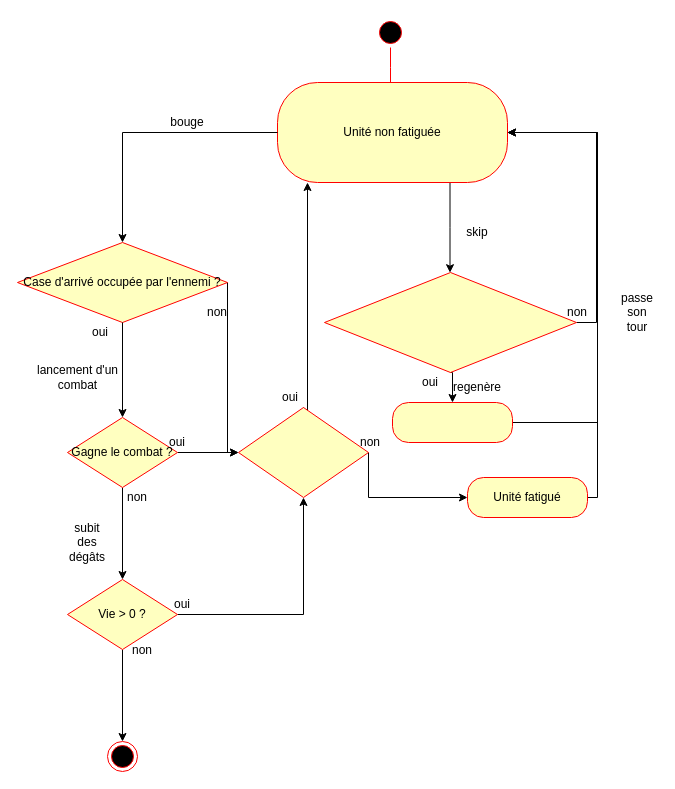
This 675x789 diagram has some shape labels left out. Here are the shapes that lost their labels. From the top down, the centre of each, then its label:
(450,322): pointMouvement == pointMouvementMax
(452,422): Unité se repose
(303,452): pointMouvement>0 ?
